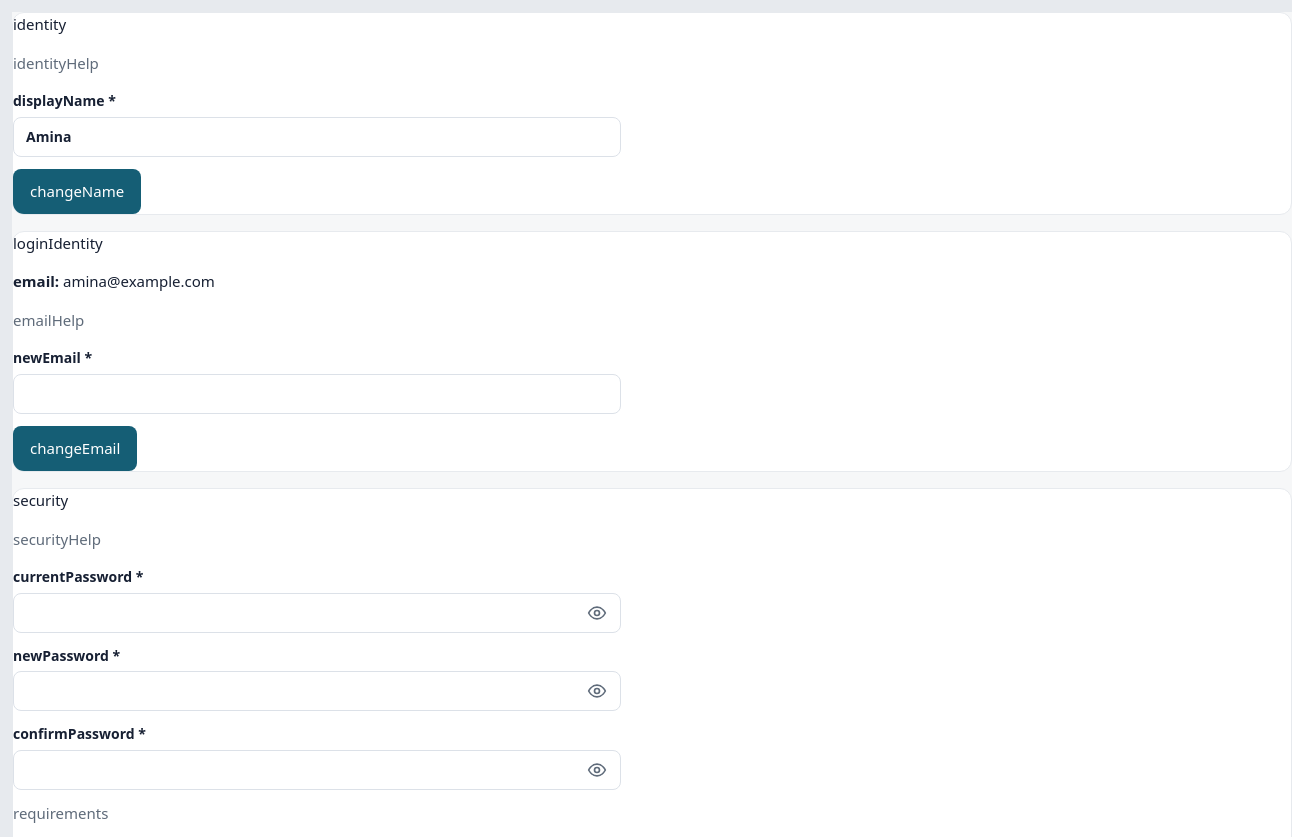
Test: one personal My account screen › requests confirmed email change without altering the displayed current login
Type "new@example.com" into the field labelled "newEmail *" at {"x": 317, "y": 394}, box 13,374 -> 621,414
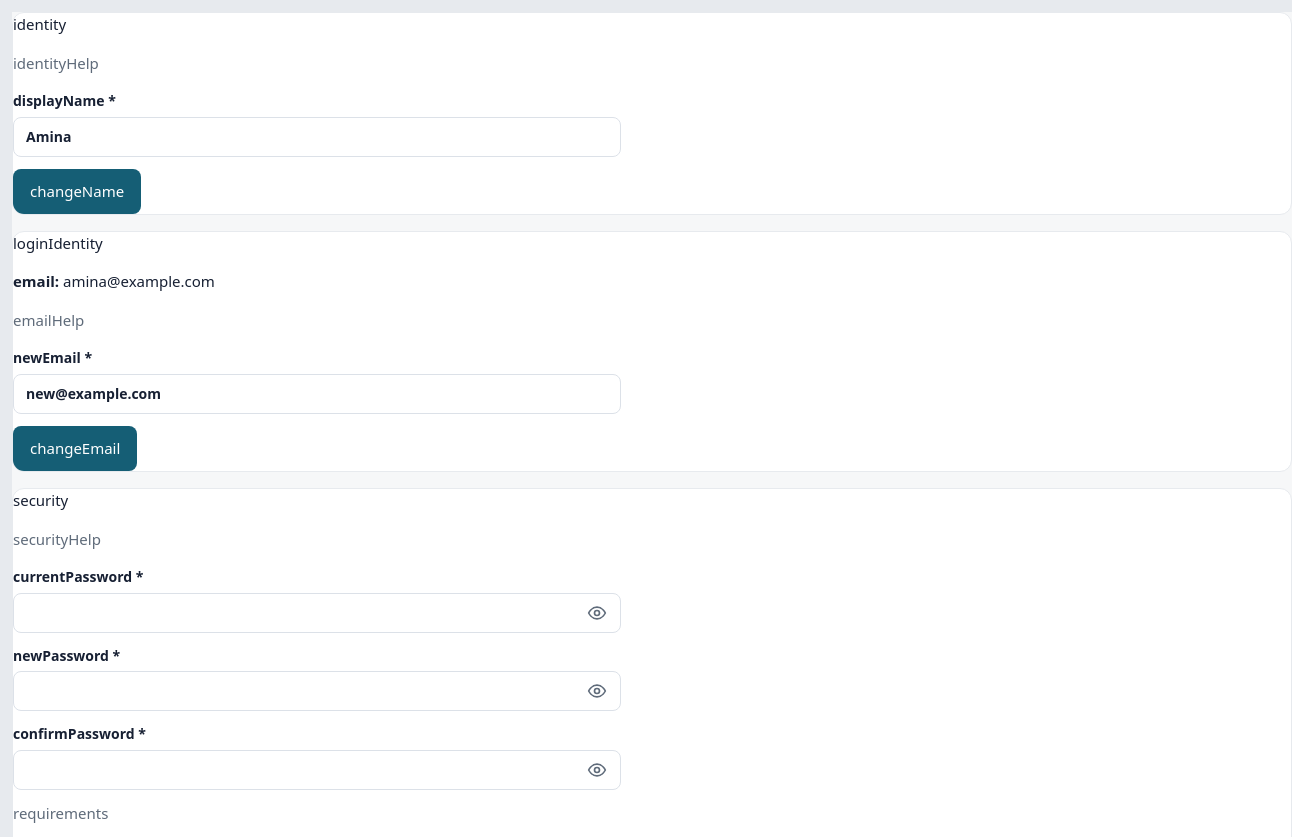
Click the button "changeEmail" at {"x": 75, "y": 449}, box 13,426 -> 137,471
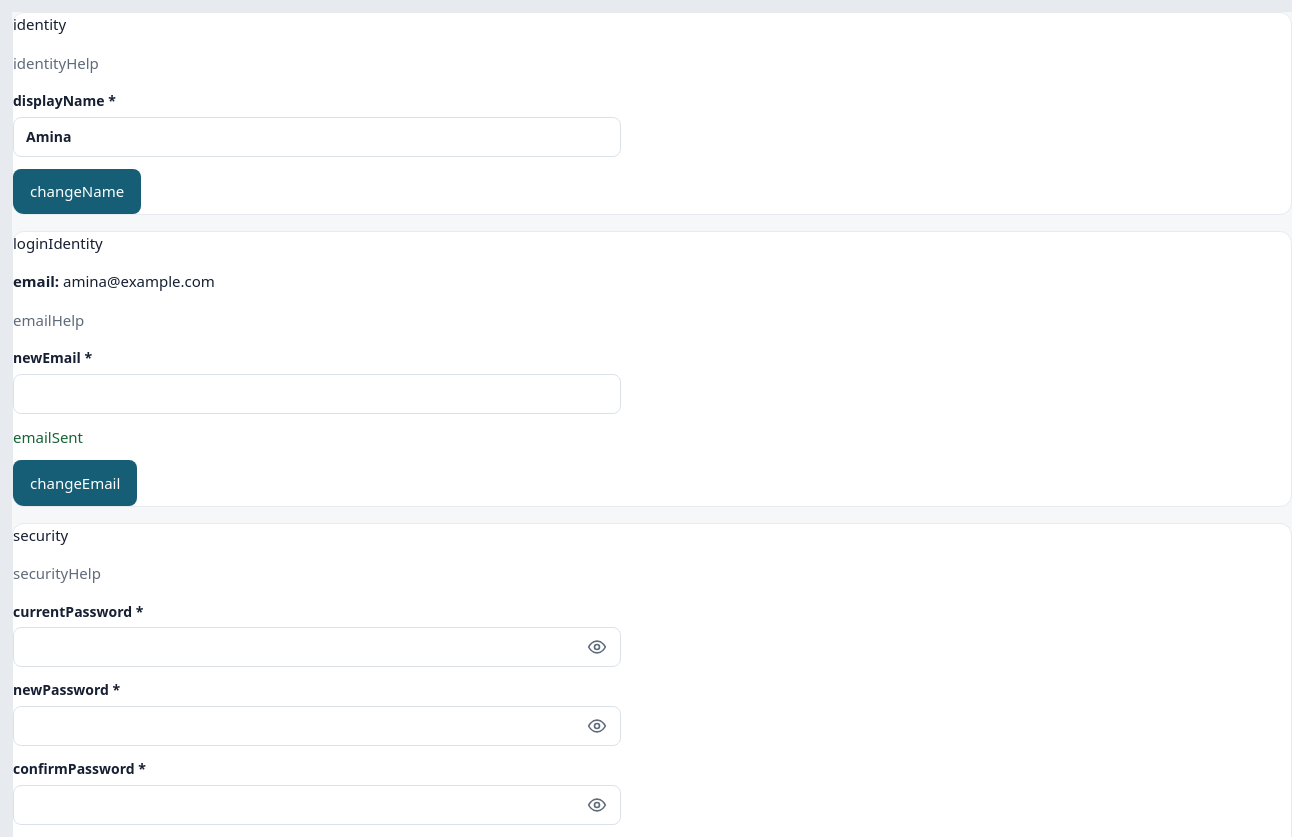
Expected: the text "amina@example.com" is shown, 63,271 -> 215,291
Expected: the message reads "emailSent", 13,427 -> 83,447
